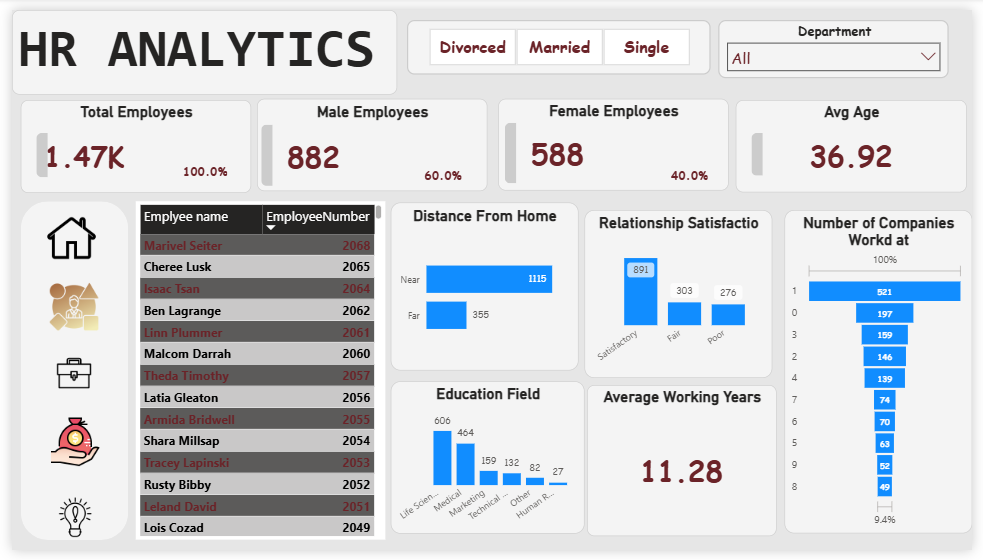

The dashboard page shown, as its layout file describes it:
{"tool":"powerbi","page":{"name":"Employee Profile","canvas":[1280,720],"ordinal":1},"visuals":[{"type":"textbox","box":[0,0,513.8,112.5],"z":0},{"type":"image","box":[37.7,452.6,88.9,64.6],"z":0,"group":"g2"},{"type":"slicer","fields":{"Values":["HR Analytics Data.MaritalStatus"]},"box":[526.2,12.5,405,72.5],"z":1000},{"type":"image","box":[37.7,452.6,88.9,64.6],"z":1000,"group":"g2"},{"type":"slicer","title":"Department","fields":{"Values":["HR Analytics Data.Department"]},"box":[941.2,12.5,307.5,77.5],"z":2000},{"type":"image","box":[37.7,363.7,88.9,64.6],"z":2000,"group":"g2"},{"type":"tableEx","fields":{"Values":["data csv Retrenchment.Emplyee name","HR employee data.EmployeeNumber"]},"box":[165.1,255.7,332.9,451.4],"z":3000},{"type":"image","box":[37.7,363.7,88.9,64.6],"z":3000,"group":"g2"},{"type":"barChart","title":"Distance From Home","fields":{"Category":["HR Analytics Data.Distance From Home"],"Y":["measure cal.total emp"]},"box":[504.3,257.1,250,224.3],"z":4000},{"type":"image","box":[40.4,643.8,88.9,64.6],"z":4000,"group":"g2"},{"type":"columnChart","title":" Education Field","fields":{"Category":["HR Analytics Data.EducationField"],"Y":["measure cal.total emp"]},"box":[504.3,495.7,258.6,202.9],"z":5000},{"type":"image","box":[40.4,643.8,88.9,64.6],"z":5000,"group":"g2"},{"type":"funnel","title":"Number of Companies Workd at","fields":{"Category":["HR Analytics Data.NumCompaniesWorked"],"Y":["measure cal.total emp"]},"box":[1030,267.1,250,431.4],"z":6000},{"type":"image","box":[40.4,544.2,88.9,64.6],"z":6000,"group":"g2"},{"type":"lineStackedColumnComboChart","title":"Relationship Satisfactio","fields":{"Category":["HR Analytics Data.Relationship Satisfaction"],"Y":["measure cal.total emp"]},"box":[762.9,267.1,250,224],"z":7000},{"type":"image","box":[40.4,544.2,88.9,64.6],"z":7000,"group":"g2"},{"type":"image","box":[35,272.1,88.9,64.6],"z":8000,"group":"g2"},{"type":"cardVisual","title":"Average Working Years","fields":{"Data":["Avg(HR Analytics Data.TotalWorkingYears)"]},"box":[767.1,500,252.9,201.4],"z":8000},{"type":"cardVisual","title":"Total Employees","fields":{"Data":["Table.total employee","measure cal.% total worker"]},"box":[12.4,119.7,307.1,124.2],"z":9000},{"type":"image","box":[35,272.1,88.9,64.6],"z":9000,"group":"g2"},{"type":"cardVisual","title":"Male Employees","fields":{"Data":["Table.male","measure cal.% male employees"]},"box":[327.5,118.6,307.1,123.1],"z":10000},{"type":"cardVisual","title":"Female Employees","fields":{"Data":["Table.Female","measure cal.% female emp"]},"box":[647.5,119,307,122.5],"z":11000},{"type":"cardVisual","title":"Avg Age","fields":{"Data":["measure cal.Avg Age"]},"box":[965.4,119.7,308.3,123.1],"z":12000},{"type":"group","id":"g1","title":"Group 1","box":[12.4,255.2,143.4,453.2],"z":12001},{"type":"shape","box":[12.4,255.2,143.4,451.7],"z":14000,"group":"g1"},{"type":"group","id":"g2","title":"Group 2","box":[35,272.1,94.3,436.4],"z":17002,"group":"g1"}]}

Visuals, with their boxes in screenshot pixels (x1, y1, x2, y2), scaled from the page's 1280x720 canvas onto the 983x560 screenshot:
textbox: x1=0, y1=0, x2=395, y2=88
image: x1=29, y1=352, x2=97, y2=402
slicer - HR Analytics Data.MaritalStatus: x1=404, y1=10, x2=715, y2=66
image: x1=29, y1=352, x2=97, y2=402
"Department" slicer: x1=723, y1=10, x2=959, y2=70
image: x1=29, y1=283, x2=97, y2=333
tableEx - data csv Retrenchment.Emplyee name x HR employee data.EmployeeNumber: x1=127, y1=199, x2=382, y2=550
image: x1=29, y1=283, x2=97, y2=333
"Distance From Home" barChart: x1=387, y1=200, x2=579, y2=374
image: x1=31, y1=501, x2=99, y2=551
" Education Field" columnChart: x1=387, y1=386, x2=586, y2=543
image: x1=31, y1=501, x2=99, y2=551
"Number of Companies Workd at" funnel: x1=791, y1=208, x2=982, y2=543
image: x1=31, y1=423, x2=99, y2=474
"Relationship Satisfactio" lineStackedColumnComboChart: x1=586, y1=208, x2=778, y2=382
image: x1=31, y1=423, x2=99, y2=474
image: x1=27, y1=212, x2=95, y2=262
"Average Working Years" cardVisual: x1=589, y1=389, x2=783, y2=546
"Total Employees" cardVisual: x1=10, y1=93, x2=245, y2=190
image: x1=27, y1=212, x2=95, y2=262
"Male Employees" cardVisual: x1=252, y1=92, x2=487, y2=188
"Female Employees" cardVisual: x1=497, y1=93, x2=733, y2=188
"Avg Age" cardVisual: x1=741, y1=93, x2=978, y2=189
"Group 1" group: x1=10, y1=198, x2=120, y2=551
shape: x1=10, y1=198, x2=120, y2=550
"Group 2" group: x1=27, y1=212, x2=99, y2=551
